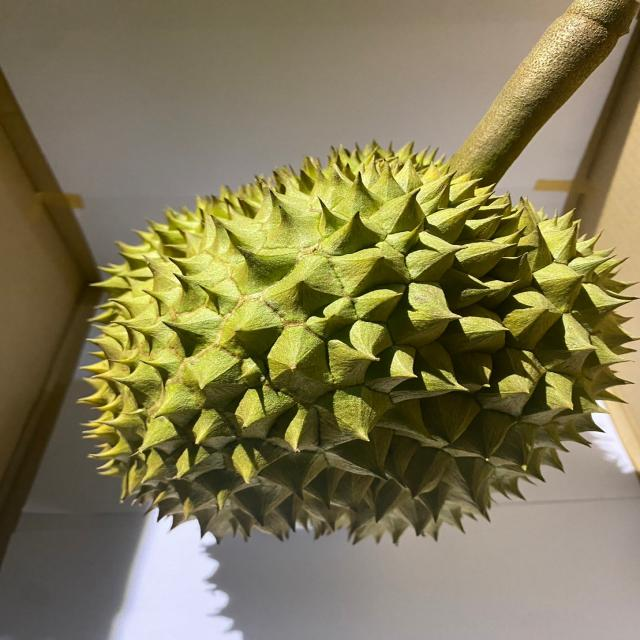immature: (71, 141, 640, 553)
